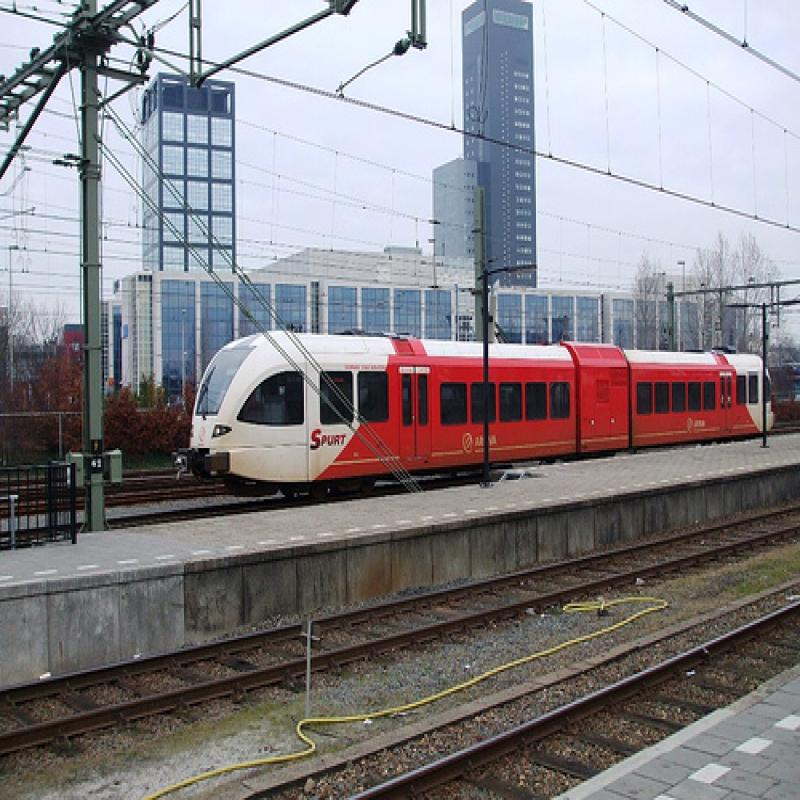train: (175, 330, 777, 500)
